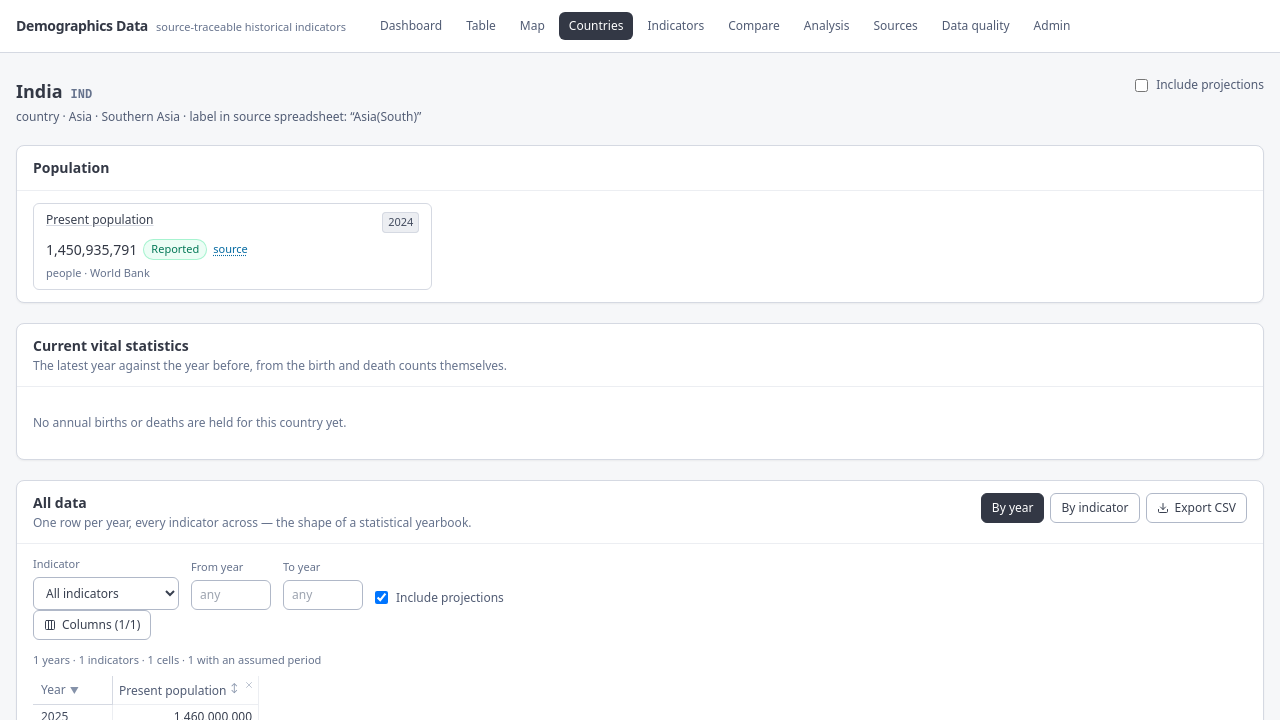
Test: pages render › the country table can be switched to one row per indicator
Click the button "By indicator": [1095, 508] box [1050,493,1140,523]
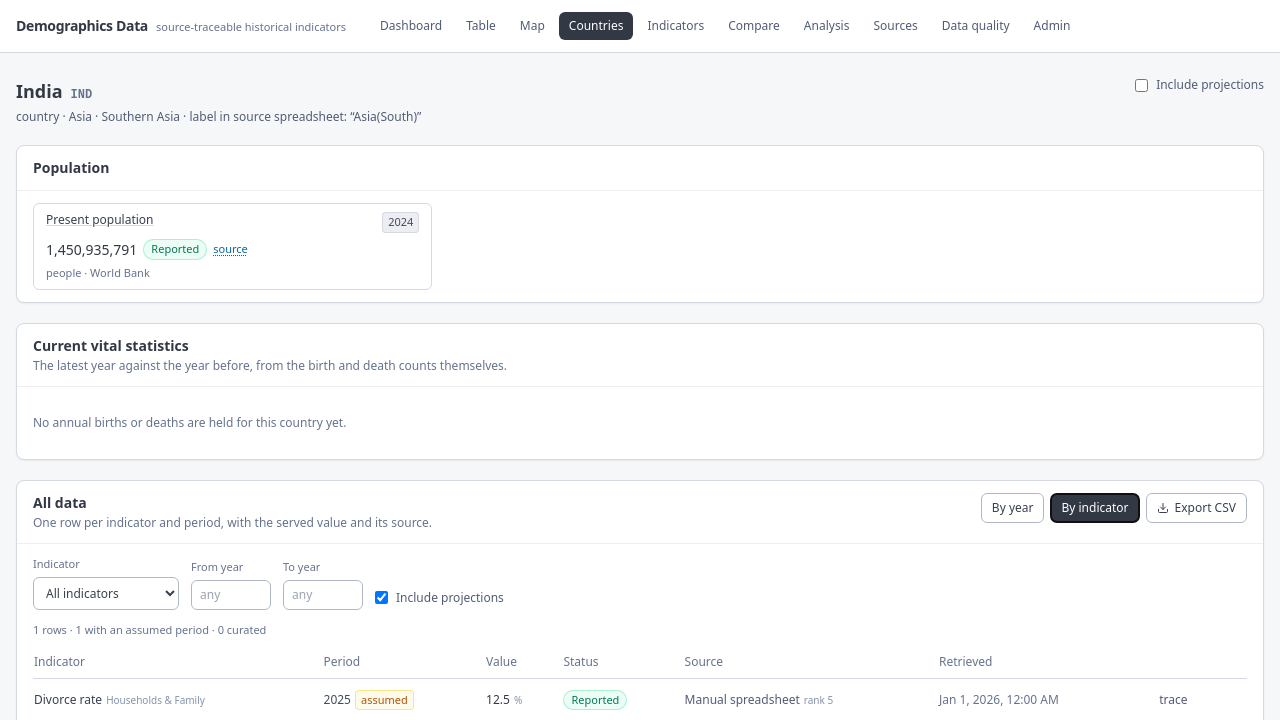
Check: the text "Divorce rate" is shown, box [34,691,102,708]
Check: the text "assumed" is shown, box [355,690,414,710]
